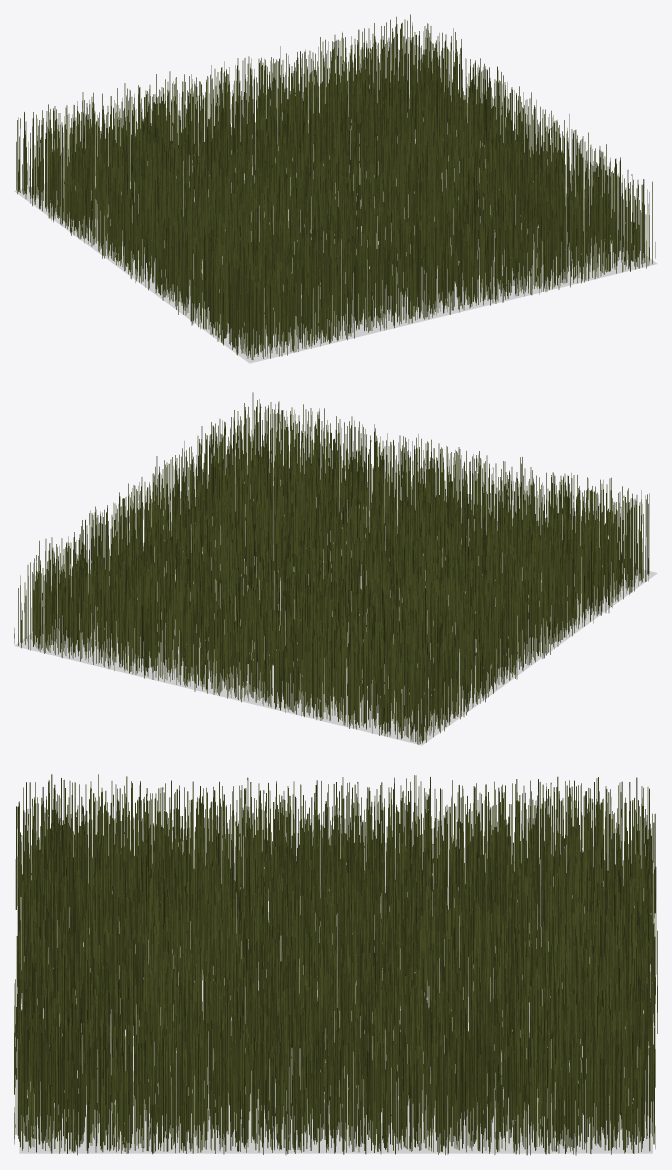
File: grassb.fbx
The picture shows the model from 3 angles, top to bottom: view 1: azimuth 30°, elevation 25°; view 2: azimuth 150°, elevation 25°; view 3: azimuth 270°, elevation 25°; orthographic projection. The views are drawn at different scales.
Parts seen in each view (by area): view 1: Mesh, Plane; view 2: Mesh, Plane; view 3: Mesh, Plane.
Part boxes in pixels (x1,y1,x2,y2): Mesh: [16, 14, 655, 359]; Plane: [14, 94, 657, 363]; Mesh: [14, 392, 649, 744]; Plane: [14, 479, 657, 745]; Mesh: [14, 774, 657, 1155]; Plane: [19, 886, 652, 1153].
Size of the model in its own units: 1668 by 322 by 1664.
Materials: 2 (1 with a texture image).
